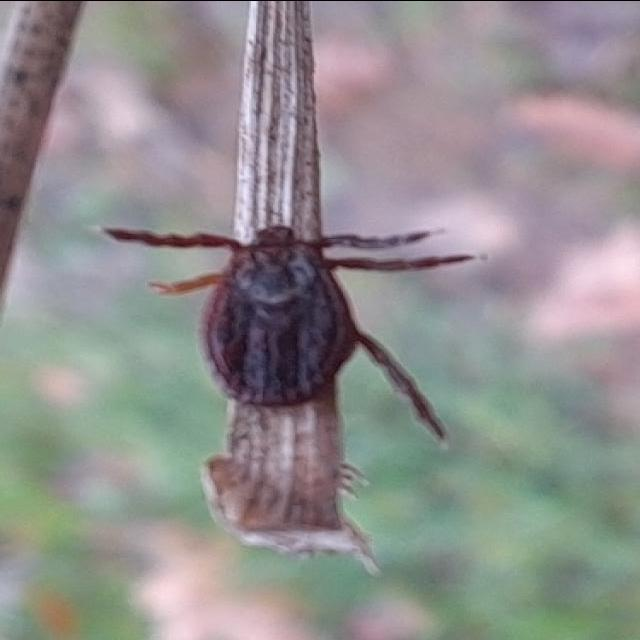Dermacentor Reticulatus-F: (114, 224, 486, 447)
